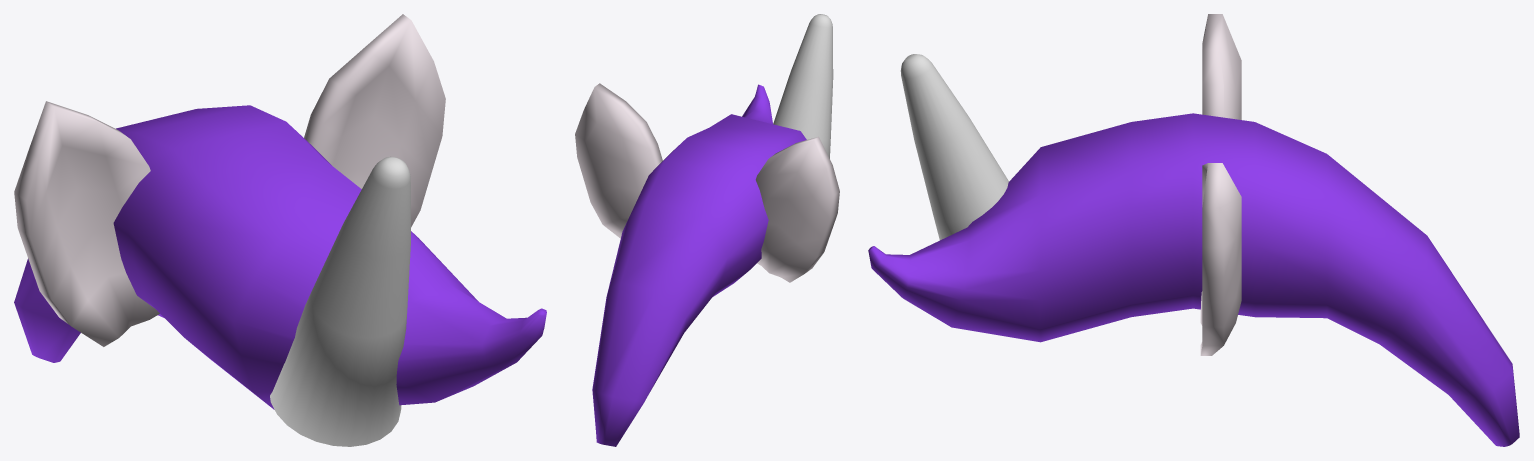
The model's file is unicorn.fbx.
3 views of the same model, side by side, from view 1: azimuth 30°, elevation 25°; view 2: azimuth 150°, elevation 25°; view 3: azimuth 270°, elevation 25° (orthographic). The views are drawn at different scales.
Visible parts, largest first — view 1: Unicorn; view 2: Unicorn; view 3: Unicorn.
Boxes of the visible parts, <box> form: Unicorn: <box>14,14,546,446</box>; Unicorn: <box>575,14,839,446</box>; Unicorn: <box>868,14,1519,446</box>.
Size of the model in its own units: 38.49 by 60.55 by 39.76.
